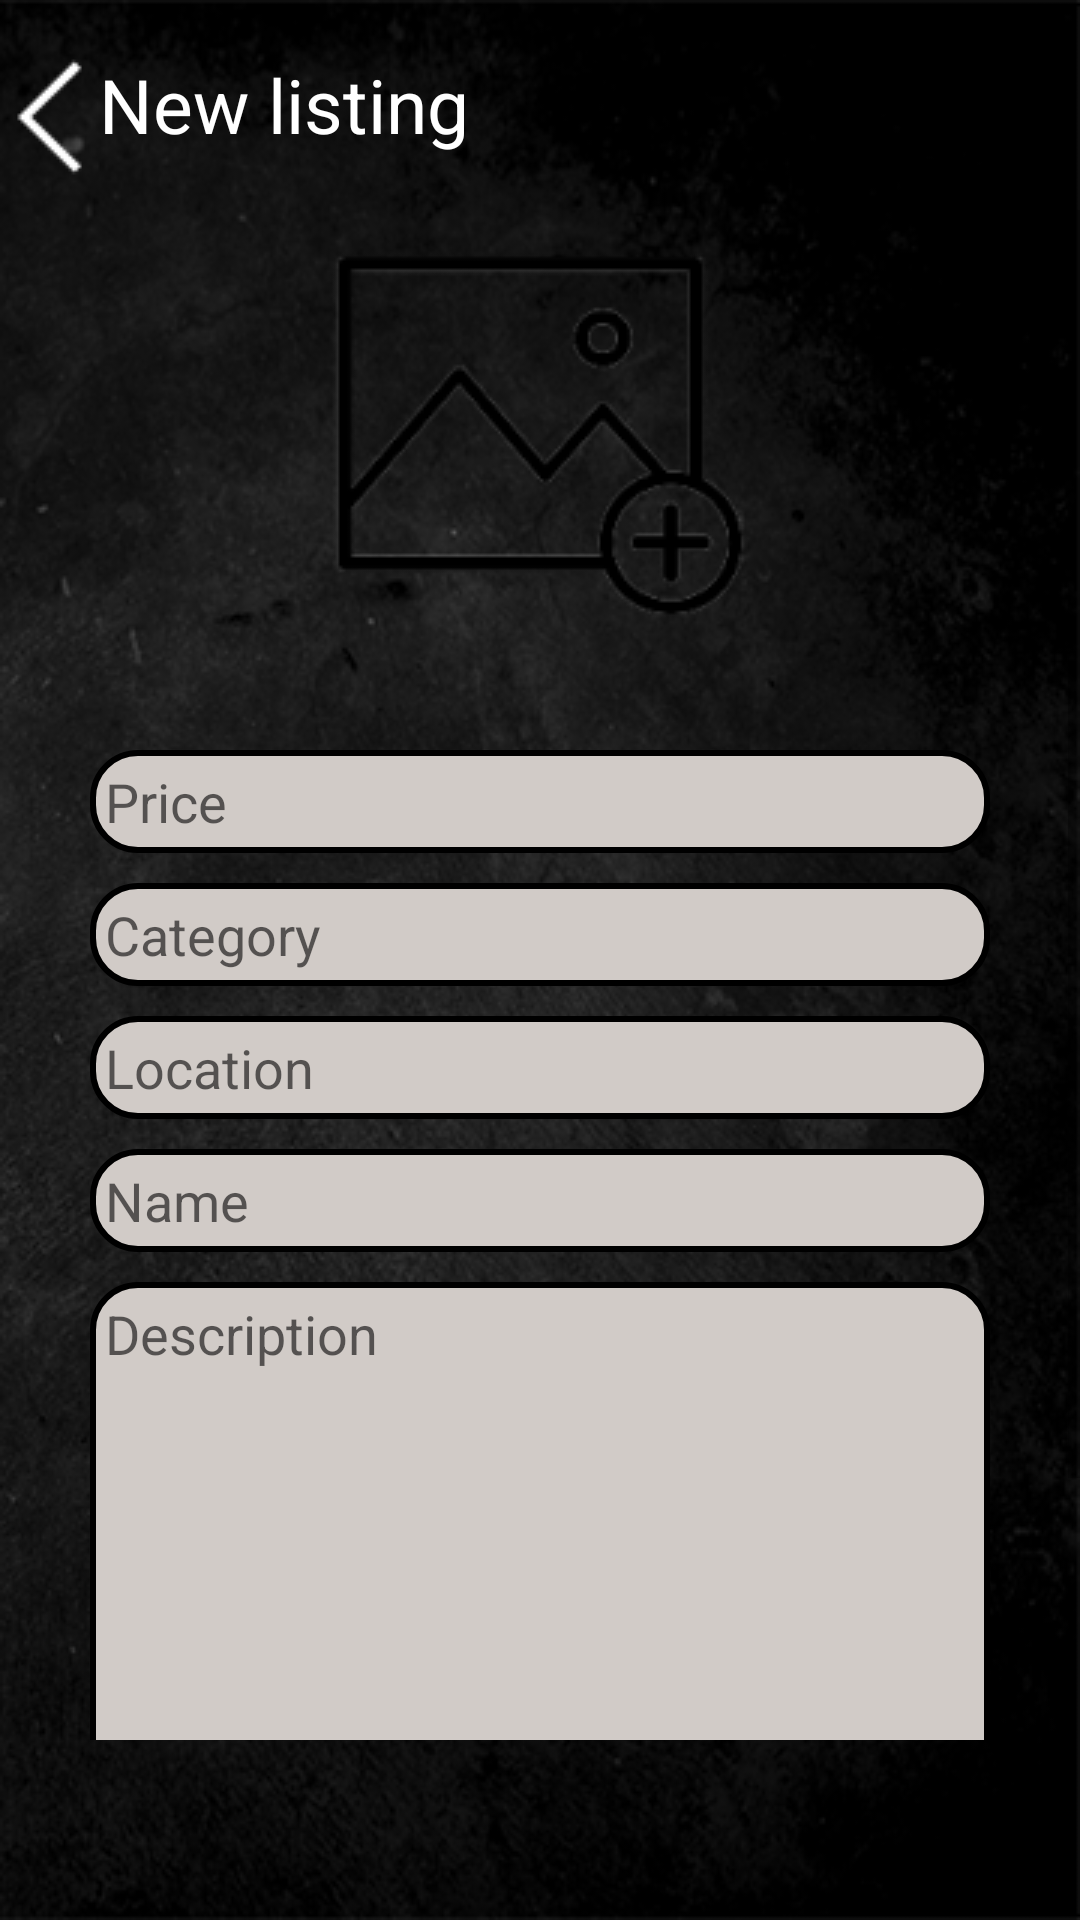

Screen size 1080*1920. Icon name, then its center in pixels as [x,y]:
backbutton: [50,117]
